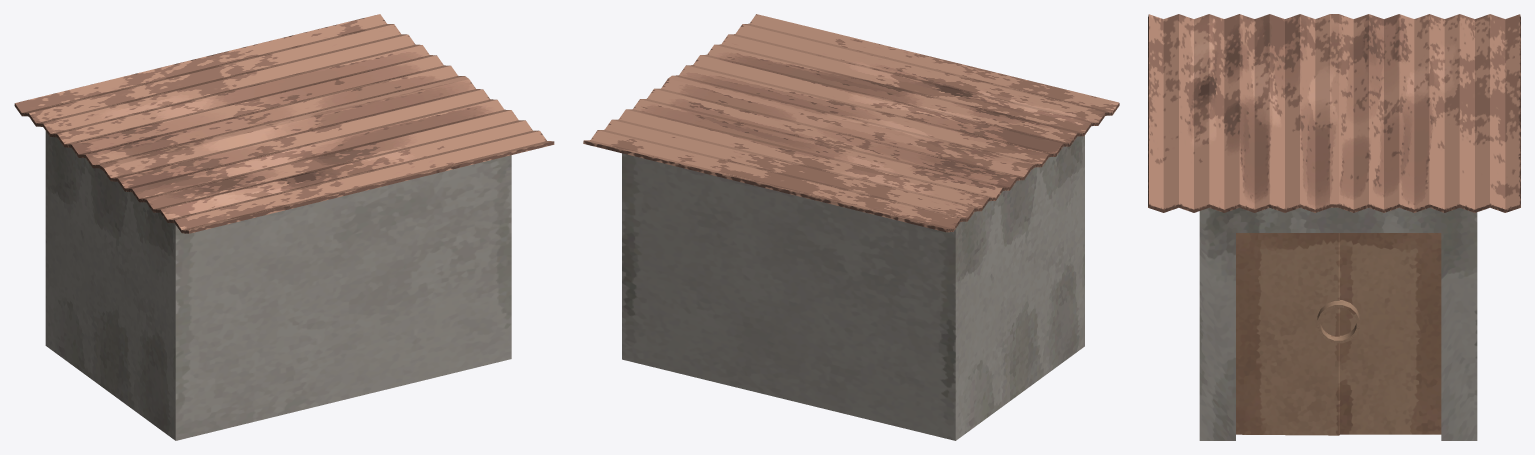
File: Garajul garaj .fbx
3 renders of one model, left to right at view 1: azimuth 30°, elevation 25°; view 2: azimuth 150°, elevation 25°; view 3: azimuth 270°, elevation 25°, orthographic. The views are drawn at different scales.
Visible parts, largest first — view 1: Cube.004, Plane.003; view 2: Cube.004, Plane.003; view 3: Plane.003, Cube.005, Cube.004, Cylinder.
Part boxes in pixels (x1=…): Cube.004: x1=45, y1=131, x2=511, y2=440; Plane.003: x1=14, y1=14, x2=554, y2=233; Cube.004: x1=622, y1=135, x2=1084, y2=440; Plane.003: x1=583, y1=14, x2=1119, y2=232; Plane.003: x1=1148, y1=14, x2=1520, y2=212; Cube.005: x1=1236, y1=233, x2=1441, y2=435; Cube.004: x1=1199, y1=207, x2=1477, y2=440; Cylinder: x1=1317, y1=300, x2=1359, y2=343.
Size of the model in its own units: 190 by 115 by 158.
